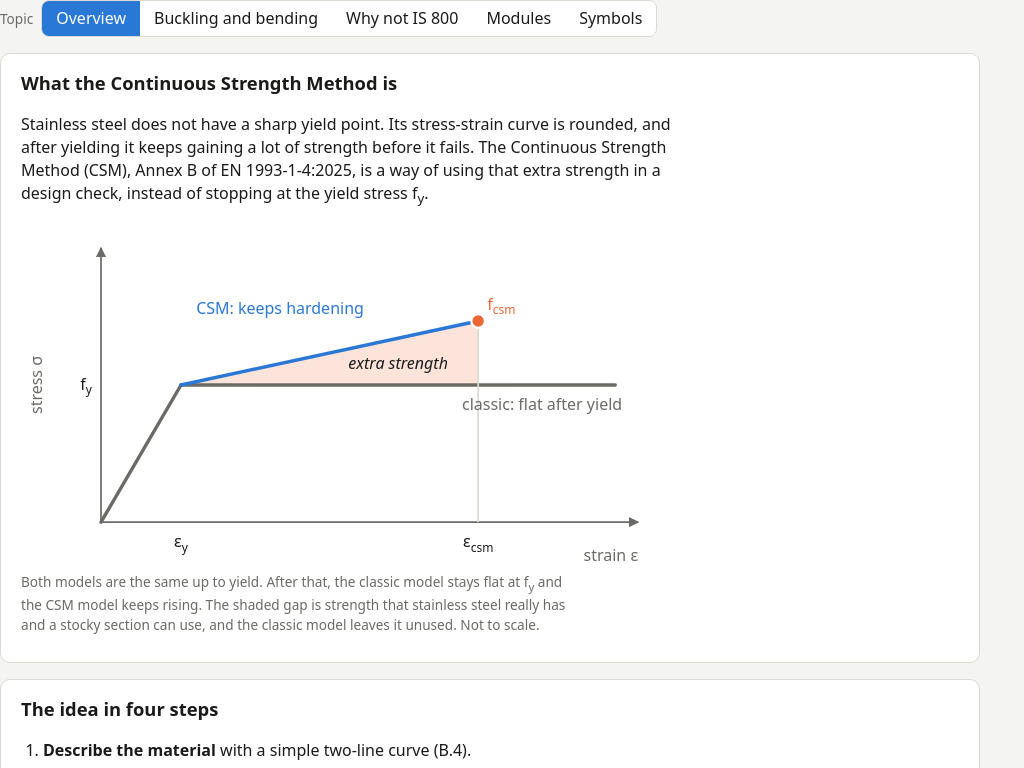
Test case: Help page › explains why this code and not IS 800, with a table and a check-your-copy note
Click the radio button labelled "Why not IS 800".
click(402, 19)  # box [332,1,472,36]
(page scrolled)
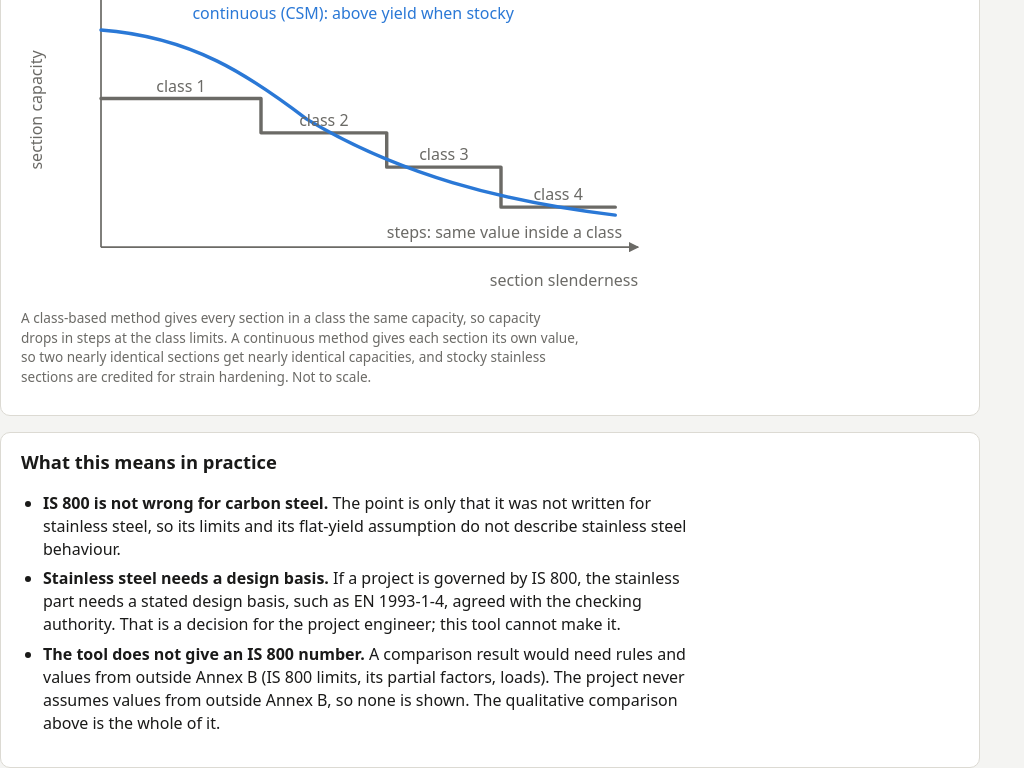
Result: the heading "What this means in practice" is shown at [21,449,277,474]
